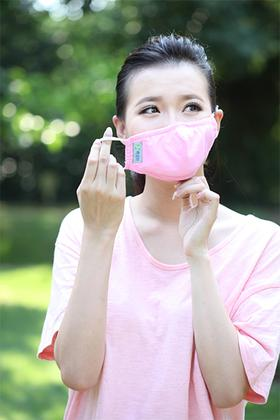WRONG: (128, 91, 217, 180)
